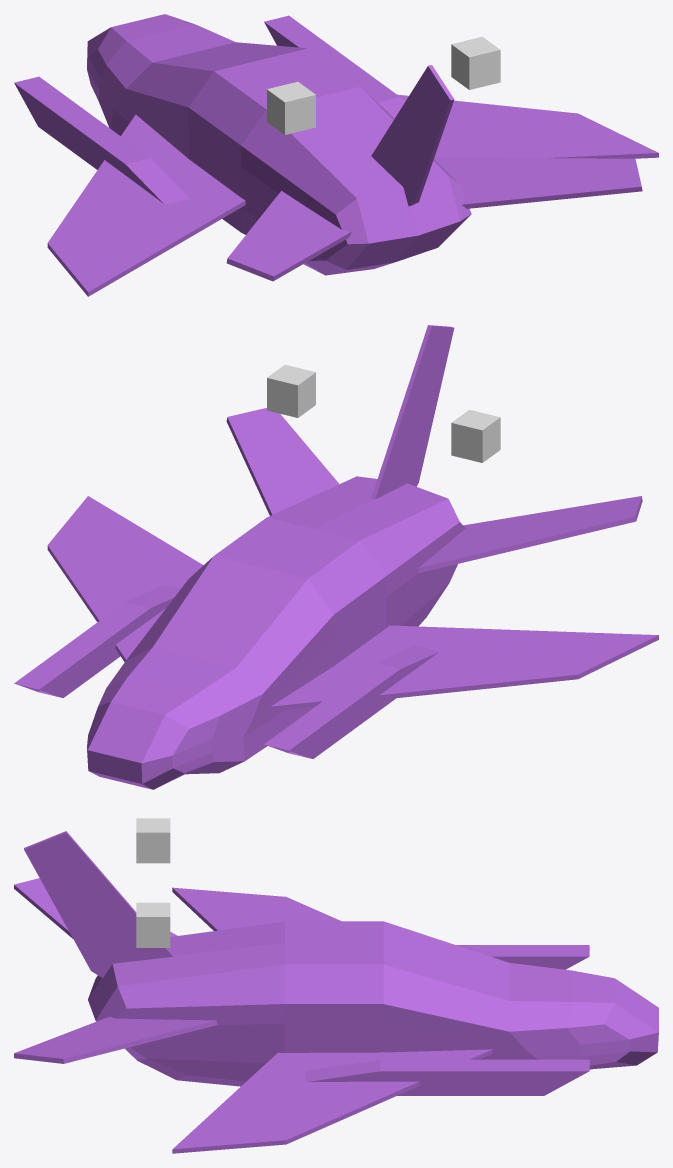
File: Mining Ship.glb
3 renders of one model, top to bottom at view 1: azimuth 30°, elevation 25°; view 2: azimuth 150°, elevation 25°; view 3: azimuth 270°, elevation 25°, orthographic. The views are drawn at different scales.
Parts seen in each view (by area): view 1: Origin Mining Ship, Mining Ship Wing, Mining Ship Tail H, Cube 020, Mining Ship Tail V, Mining Ship Engine R, Mining Ship Engine L; view 2: Origin Mining Ship, Mining Ship Wing, Mining Ship Tail H, Cube 020, Mining Ship Tail V, Mining Ship Engine L, Mining Ship Engine R; view 3: Origin Mining Ship, Mining Ship Wing, Cube 020, Mining Ship Tail V, Mining Ship Tail H, Mining Ship Engine L, Mining Ship Engine R.
Part boxes in pixels (bbox=[...]): Origin Mining Ship: bbox=[87, 14, 471, 275]; Mining Ship Wing: bbox=[47, 94, 658, 296]; Mining Ship Tail H: bbox=[226, 157, 642, 281]; Cube 020: bbox=[14, 15, 404, 204]; Mining Ship Tail V: bbox=[371, 65, 454, 206]; Mining Ship Engine R: bbox=[451, 36, 500, 89]; Mining Ship Engine L: bbox=[267, 81, 315, 134]; Origin Mining Ship: bbox=[87, 476, 465, 789]; Mining Ship Wing: bbox=[47, 496, 658, 711]; Mining Ship Tail H: bbox=[226, 408, 642, 573]; Cube 020: bbox=[14, 585, 438, 758]; Mining Ship Tail V: bbox=[371, 325, 454, 499]; Mining Ship Engine L: bbox=[451, 409, 500, 462]; Mining Ship Engine R: bbox=[267, 364, 315, 417]; Origin Mining Ship: bbox=[88, 921, 658, 1086]; Mining Ship Wing: bbox=[172, 887, 492, 1153]; Cube 020: bbox=[305, 945, 589, 1095]; Mining Ship Tail V: bbox=[24, 831, 172, 977]; Mining Ship Tail H: bbox=[14, 878, 217, 1063]; Mining Ship Engine L: bbox=[136, 818, 170, 863]; Mining Ship Engine R: bbox=[136, 902, 170, 947].
Bounding box in the file's own units: 13.62 × 5.76 × 14.18.
